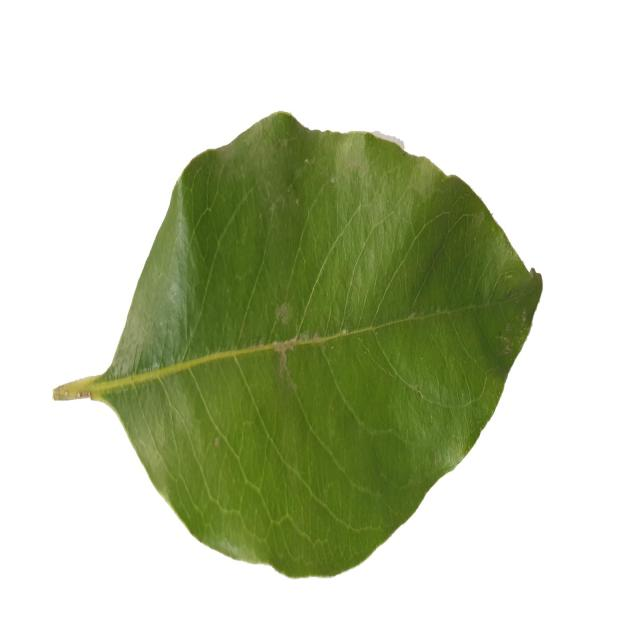Medicinal-Sandalwood: (53, 108, 544, 578)
